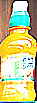orange: (1, 1, 36, 101)
